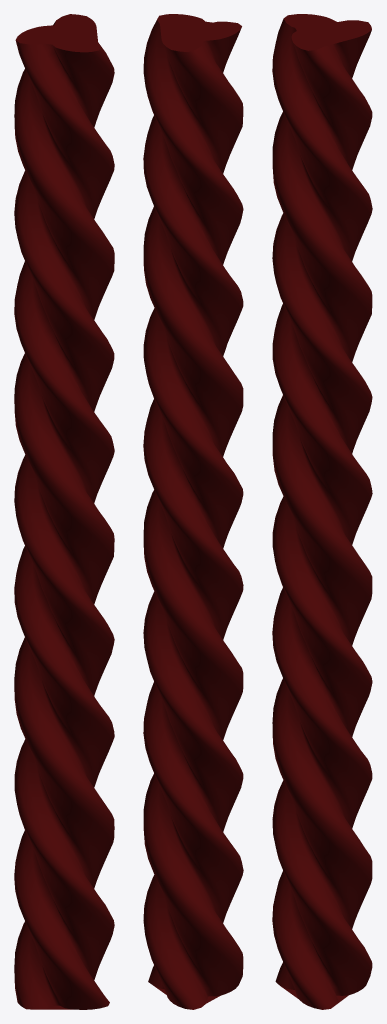
File: Rope.FBX
The picture shows the model from 3 angles, left to right: view 1: azimuth 30°, elevation 25°; view 2: azimuth 210°, elevation 25°; view 3: azimuth 330°, elevation 25°; orthographic projection.
Visible parts, largest first — view 1: Cylinder001; view 2: Cylinder001; view 3: Cylinder001.
Boxes of the visible parts, <box> form: Cylinder001: <box>14,14,114,1009</box>; Cylinder001: <box>143,14,243,1009</box>; Cylinder001: <box>272,14,372,1009</box>.
Size of the model in its own units: 7.48 by 78.74 by 7.47.
